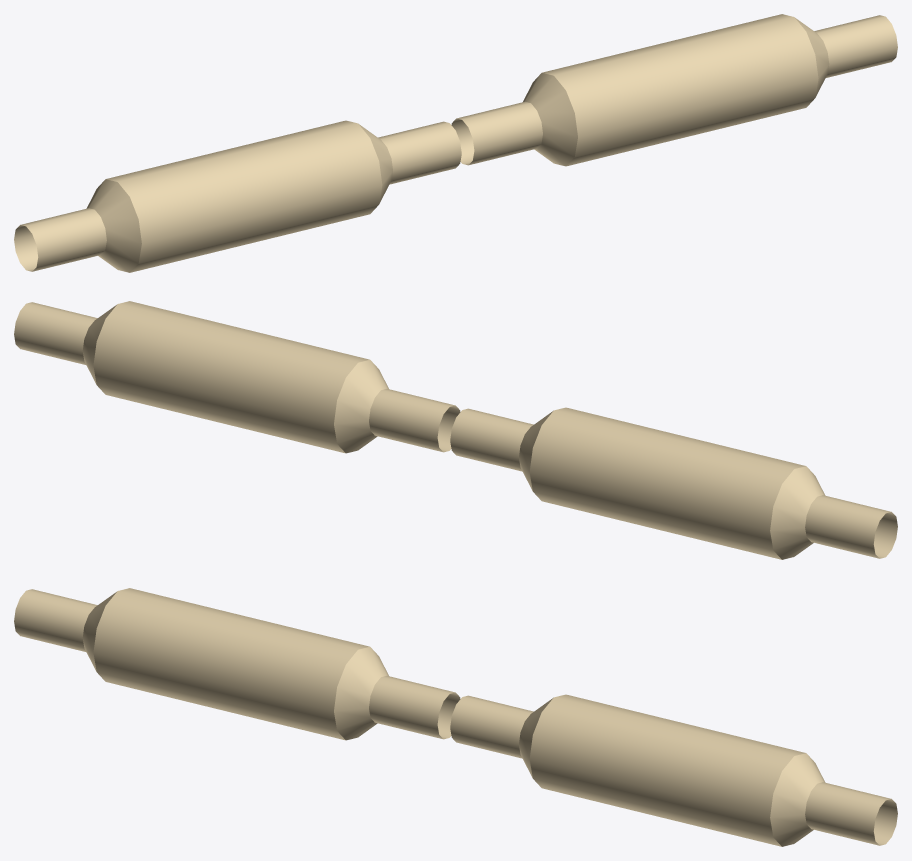
The model's file is SM_C26_Wicket_Bails.fbx.
3 views of the same model, one above another, from view 1: azimuth 30°, elevation 25°; view 2: azimuth 150°, elevation 25°; view 3: azimuth 330°, elevation 25° (orthographic).
Parts seen in each view (by area): view 1: SM_C26_Wicket_Bails; view 2: SM_C26_Wicket_Bails; view 3: SM_C26_Wicket_Bails.
Part boxes in pixels (left/top/right/bottom): SM_C26_Wicket_Bails: left=14, top=14, right=897, bottom=272; SM_C26_Wicket_Bails: left=14, top=301, right=897, bottom=559; SM_C26_Wicket_Bails: left=14, top=588, right=897, bottom=846.
Size of the model in its own units: 22.53 by 2.2 by 2.2.
